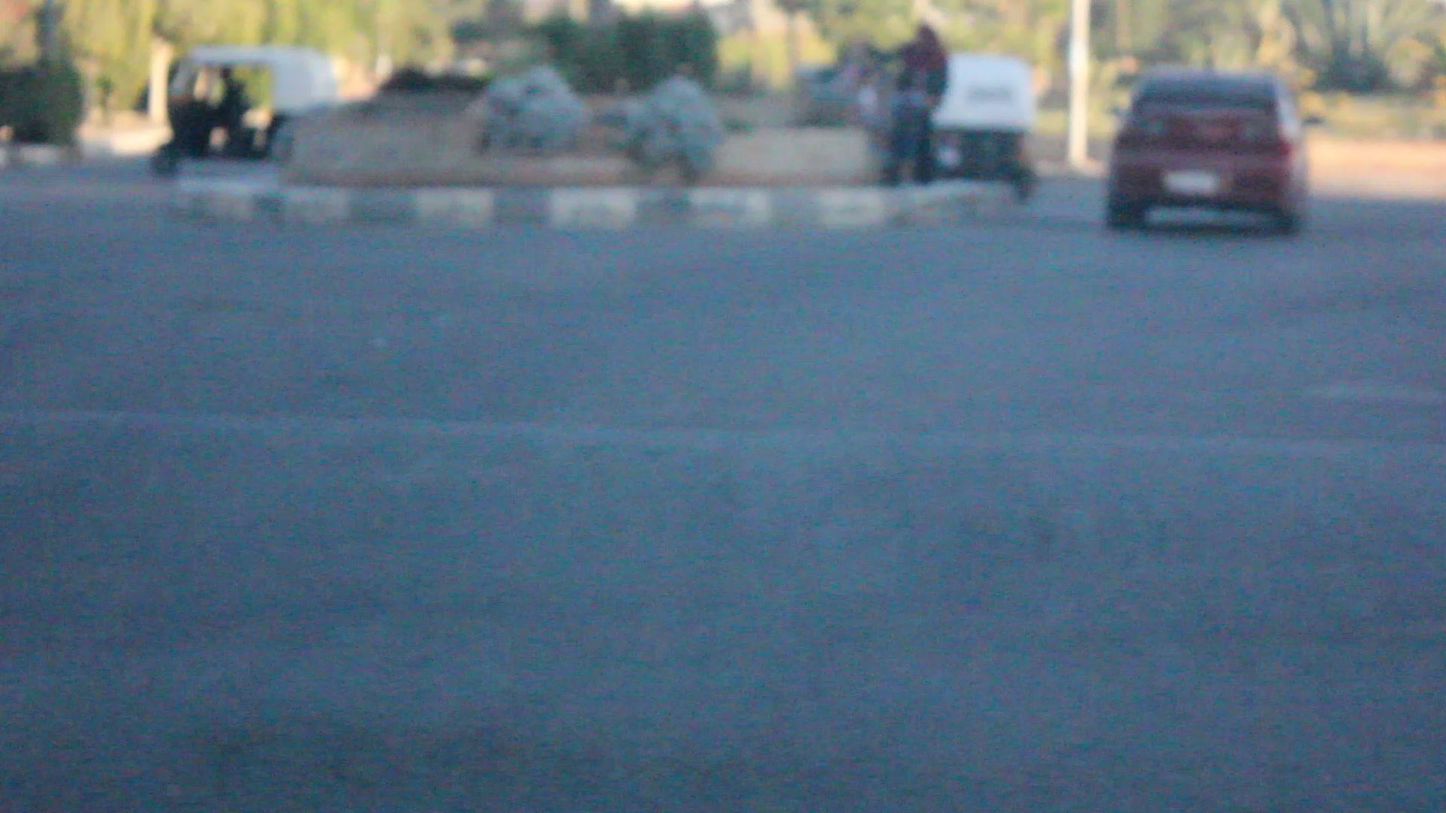Bump: (0, 416, 1446, 642)
